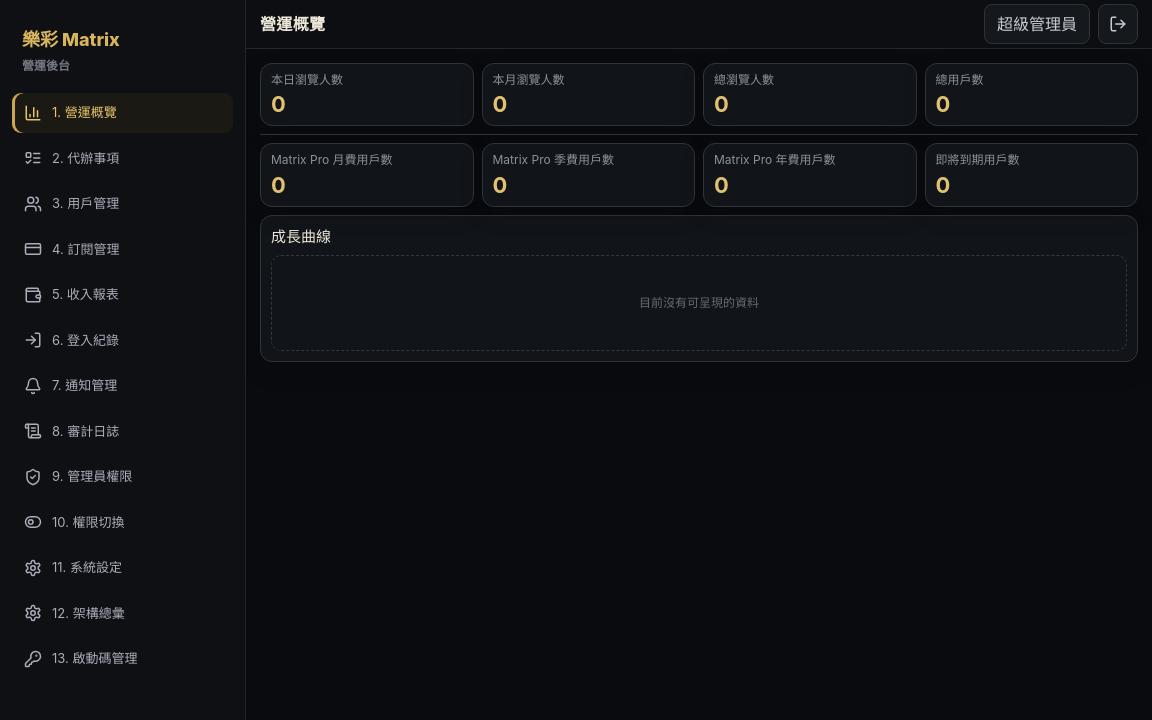
Test: administrator operation permission editing › retains the edit draft and shows a conflict without silently retrying stale permissions
Click the button "9. 管理員權限" at x=122, y=477, box [12,457,233,496]
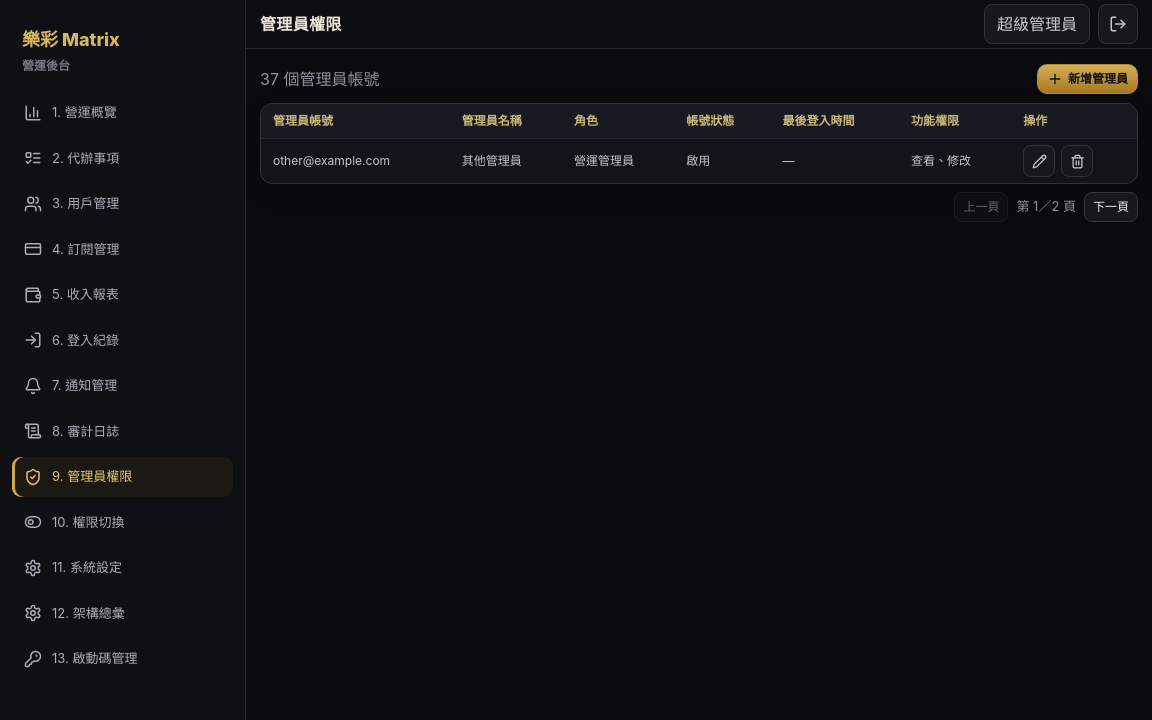
Click the button named "編輯管理員 other@example.com" at x=1039, y=161, box [1023,145,1055,177]
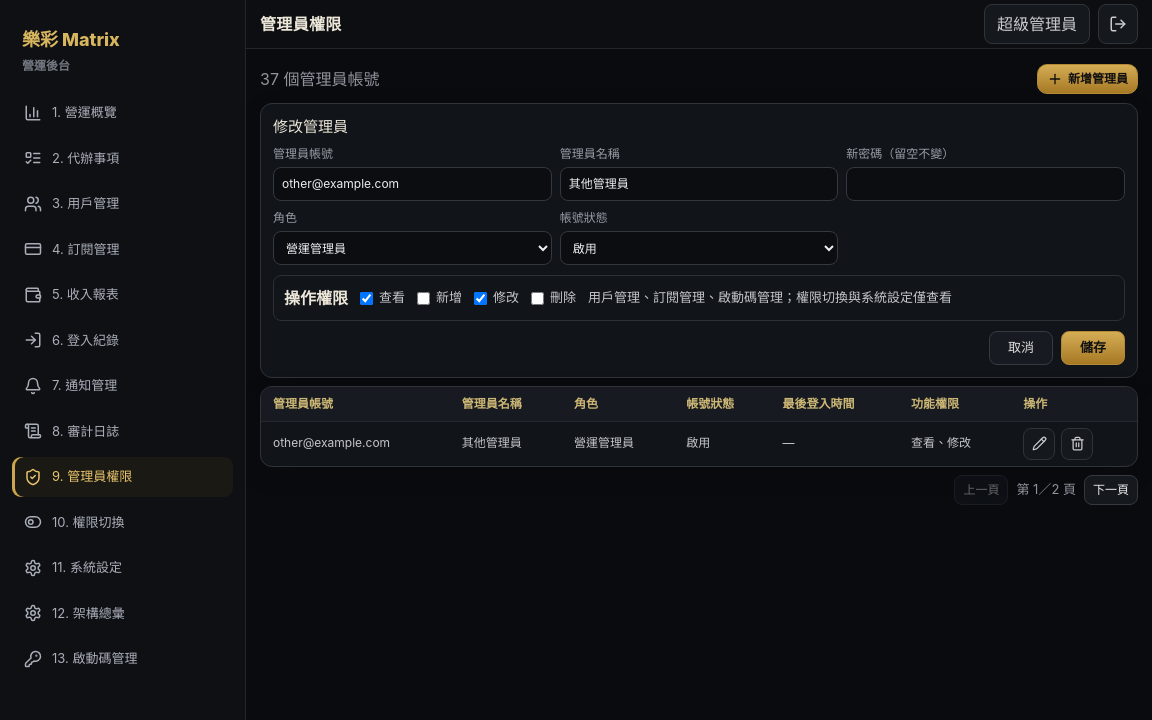
Replace the text in the field labelled "管理員名稱" with "新名稱" at x=699, y=184, box [560,167,838,201]
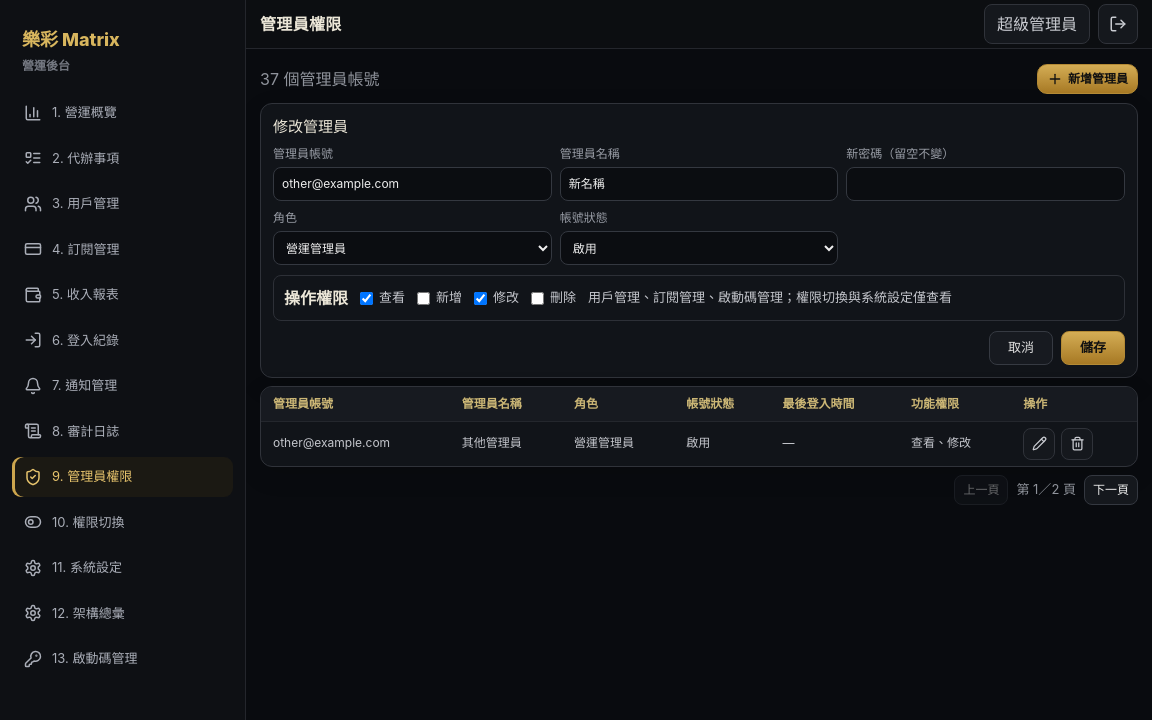
Click the button "儲存" at x=1093, y=348, box [1061,331,1125,364]
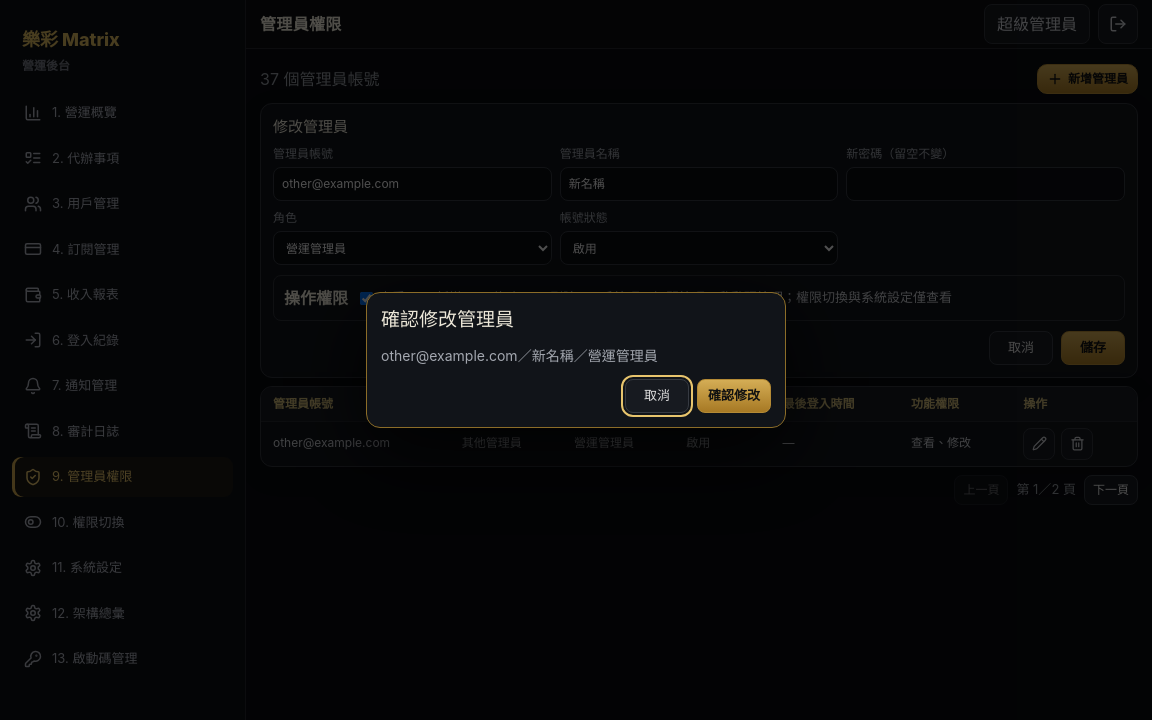
Click the button "確認修改" at x=734, y=396, box [697,379,771,413]
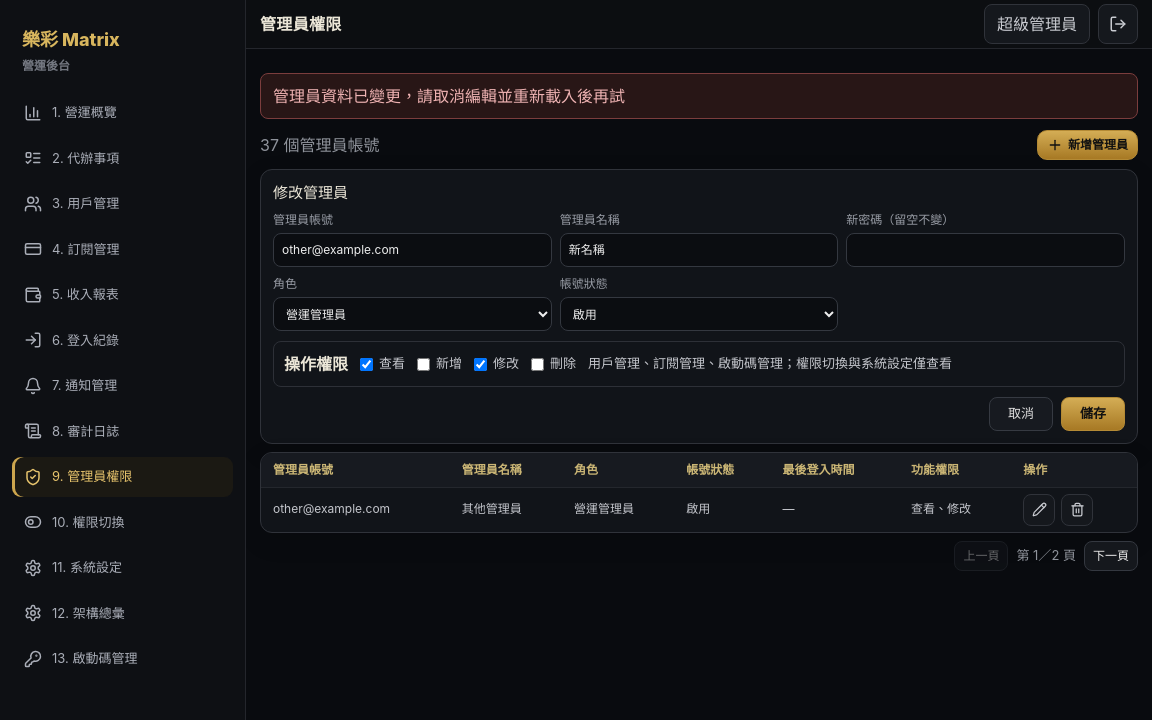
Now the text "管理員資料已變更，請取消編輯並重新載入後再試" is shown, box [260,73,1138,119]
